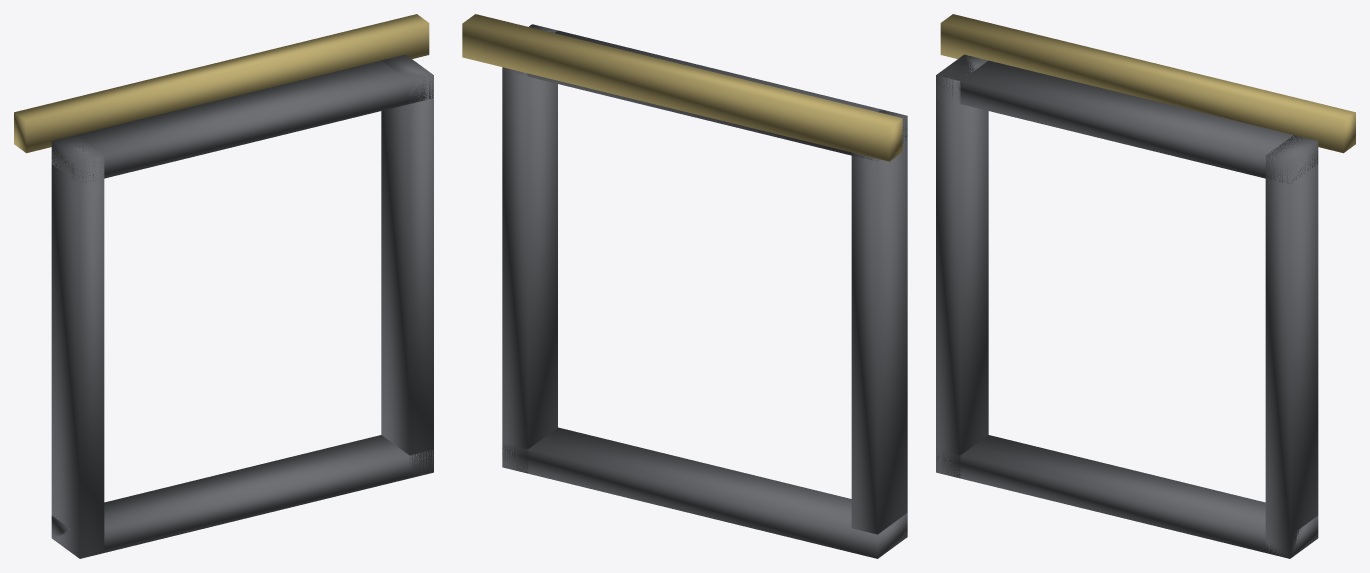
File: egress_window_motel_w100_h110_s72_d16.glb
3 renders of one model, left to right at view 1: azimuth 30°, elevation 25°; view 2: azimuth 150°, elevation 25°; view 3: azimuth 330°, elevation 25°, orthographic. The views are drawn at different scales.
Visible parts, largest first — view 1: world; view 2: world; view 3: world.
Boxes of the visible parts, left/top/right/bottom form: world: left=14, top=14, right=433, bottom=558; world: left=462, top=14, right=907, bottom=558; world: left=936, top=14, right=1355, bottom=558.
Bounding box in the file's own units: 1.32 × 1.32 × 0.235.
